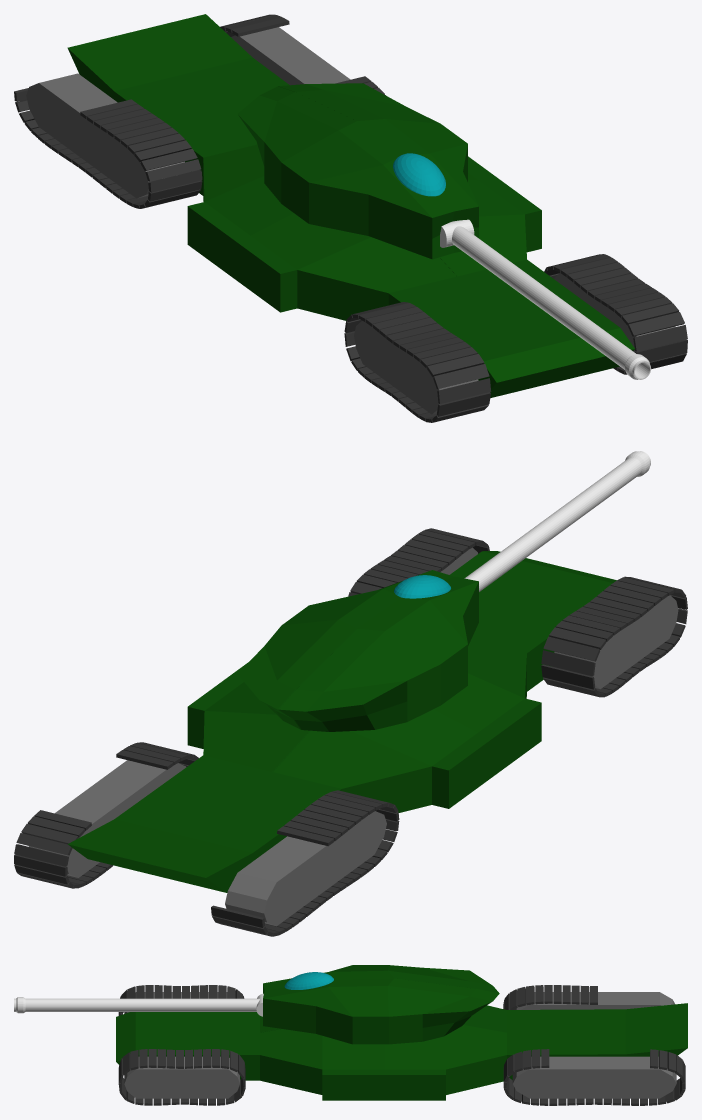
File: Tank.fbx
3 renders of one model, top to bottom at view 1: azimuth 30°, elevation 25°; view 2: azimuth 150°, elevation 25°; view 3: azimuth 270°, elevation 25°, orthographic. The views are drawn at different scales.
Visible parts, largest first — view 1: Tank_Body, Tank_Turret_Body, Tank_Track.003, Tank_Track.002, Tank_Track.004, Tank_Track_Middle.002, Tank_Turret_Barrel, Tank_Track_Middle.003, Tank_Track_Middle.001, Tank_Turret_CockPit, Tank_Track.001, Tank_Track_Middle.004; view 2: Tank_Body, Tank_Turret_Body, Tank_Track_Middle.002, Tank_Track.003, Tank_Track.002, Tank_Track.001, Tank_Track_Middle.001, Tank_Turret_Barrel, Tank_Track.004, Tank_Track_Middle.003, Tank_Turret_CockPit; view 3: Tank_Body, Tank_Turret_Body, Tank_Track_Middle.001, Tank_Track_Middle.004, Tank_Track.004, Tank_Turret_Barrel, Tank_Track.001, Tank_Track_Middle.002, Tank_Track.002, Tank_Track.003, Tank_Turret_CockPit.
Part boxes in pixels (x1,y1,x2,y2): Tank_Body: [67, 14, 634, 397]; Tank_Turret_Body: [238, 83, 478, 259]; Tank_Track.003: [344, 302, 491, 422]; Tank_Track.002: [14, 88, 202, 208]; Tank_Track.004: [544, 254, 687, 374]; Tank_Track_Middle.002: [26, 73, 184, 198]; Tank_Turret_Barrel: [452, 226, 651, 379]; Tank_Track_Middle.003: [354, 320, 478, 414]; Tank_Track_Middle.001: [231, 27, 350, 85]; Tank_Turret_CockPit: [393, 153, 445, 196]; Tank_Track.001: [220, 14, 385, 95]; Tank_Track_Middle.004: [554, 272, 675, 352]; Tank_Body: [67, 551, 616, 892]; Tank_Turret_Body: [238, 570, 478, 731]; Tank_Track_Middle.002: [225, 811, 386, 926]; Tank_Track.003: [541, 576, 687, 697]; Tank_Track.002: [211, 790, 399, 936]; Tank_Track.001: [14, 742, 198, 888]; Tank_Track_Middle.001: [29, 760, 186, 877]; Tank_Turret_Barrel: [464, 451, 650, 591]; Tank_Track.004: [348, 528, 489, 596]; Tank_Track_Middle.003: [553, 595, 678, 689]; Tank_Turret_CockPit: [394, 575, 450, 598]; Tank_Body: [116, 1003, 687, 1100]; Tank_Turret_Body: [263, 965, 499, 1044]; Tank_Track_Middle.001: [512, 1056, 676, 1098]; Tank_Track_Middle.004: [124, 1056, 239, 1098]; Tank_Track.004: [118, 1049, 245, 1105]; Tank_Turret_Barrel: [14, 997, 259, 1013]; Tank_Track.001: [503, 1049, 685, 1105]; Tank_Track_Middle.002: [514, 992, 674, 1009]; Tank_Track.002: [503, 985, 597, 1009]; Tank_Track.003: [118, 985, 244, 1015]; Tank_Turret_CockPit: [284, 972, 333, 989].
Size of the model in its own units: 749 by 375 by 2510.
